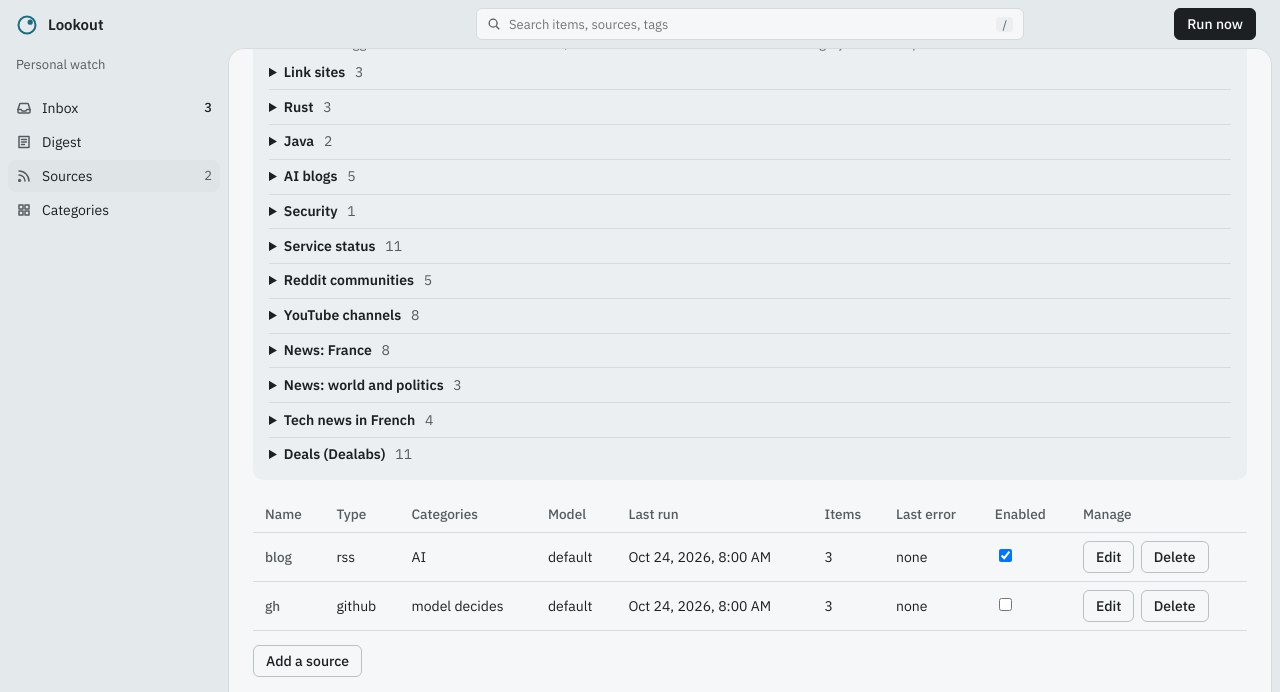
Test case: sources › says in words where the items will go, for what is ticked
The image size is (1280, 692).
(page scrolled)
Click the button "Add a source" at (308, 661), box [253,645,362,677]
(page scrolled)
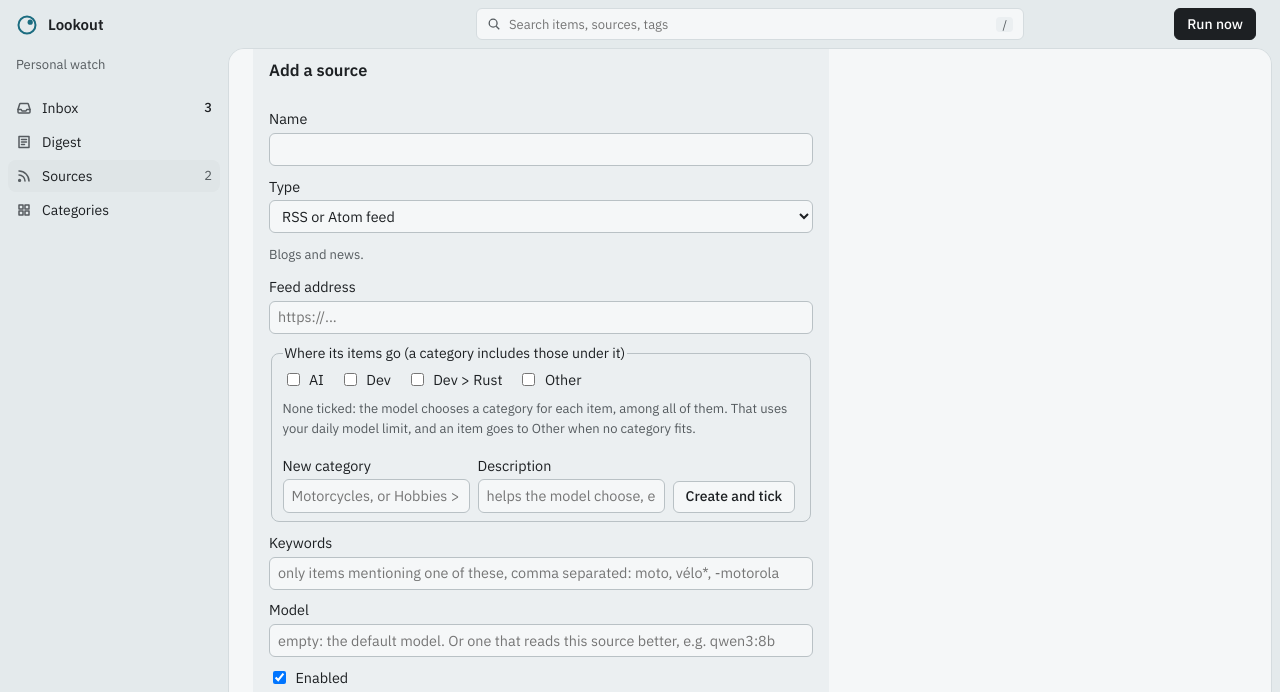
Check: the text "None ticked: the model chooses a category for each item" is shown, box [282,400,787,437]
Click the checkbox labelled "AI" at (293, 380), box [286,374,300,386]
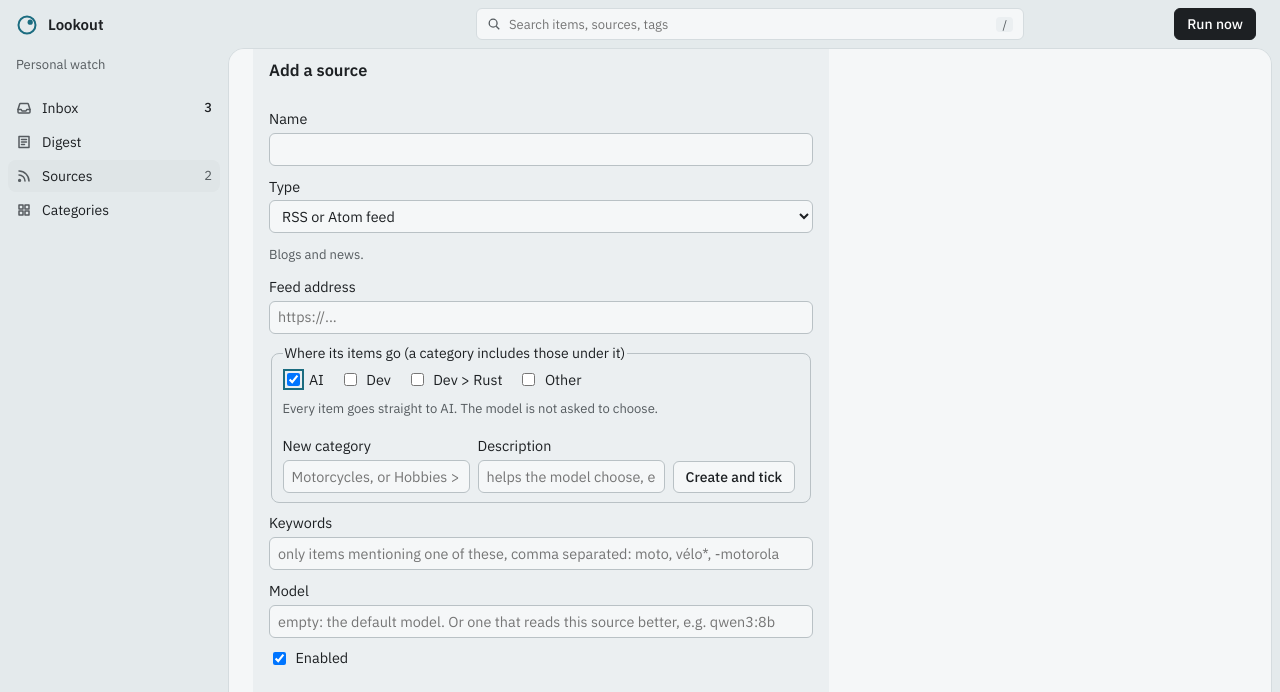
Check: the text "Every item goes straight to AI. The model is not asked to choose." is shown, box [282,399,658,419]
Click the checkbox labelled "Dev > Rust" at (417, 380), box [411,374,424,386]
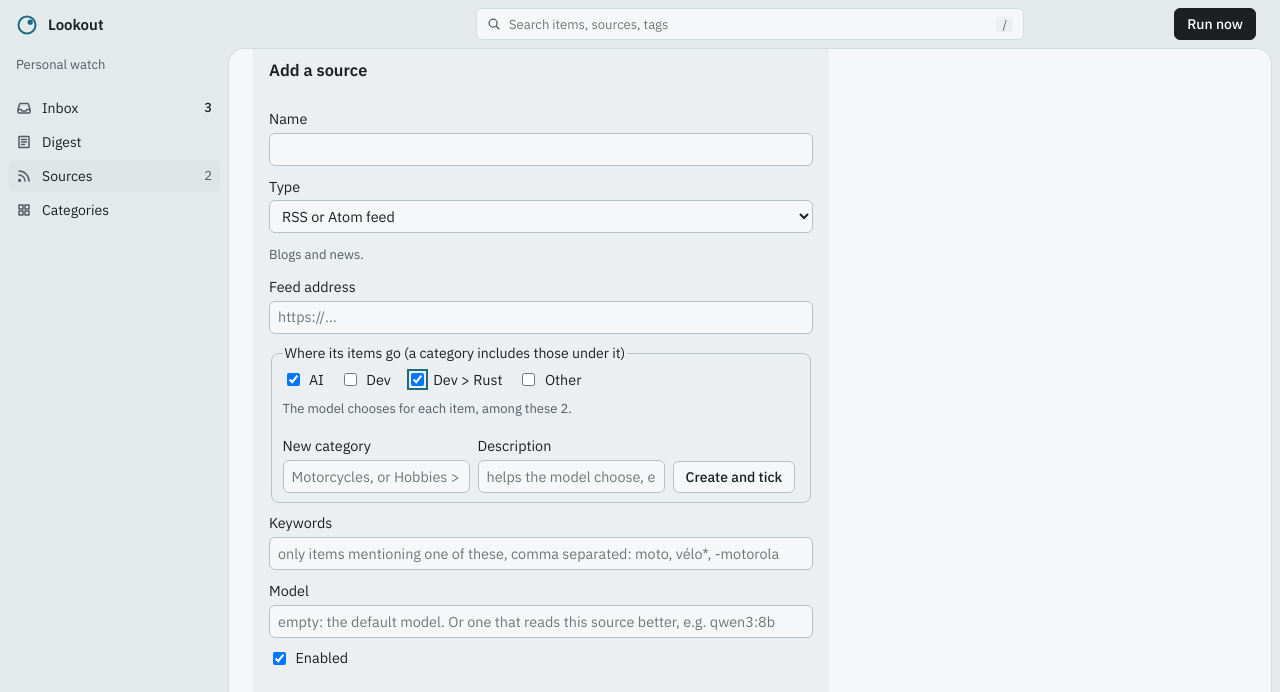
Check: the text "The model chooses for each item, among these 2." is shown, box [282,399,572,419]
